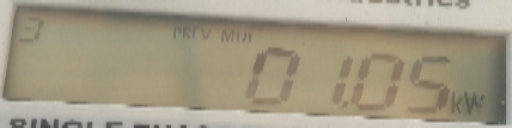0: (359, 40, 410, 117), (246, 38, 303, 105)
1: (327, 46, 352, 106)
5: (405, 42, 456, 119)
d: (341, 98, 353, 116)
